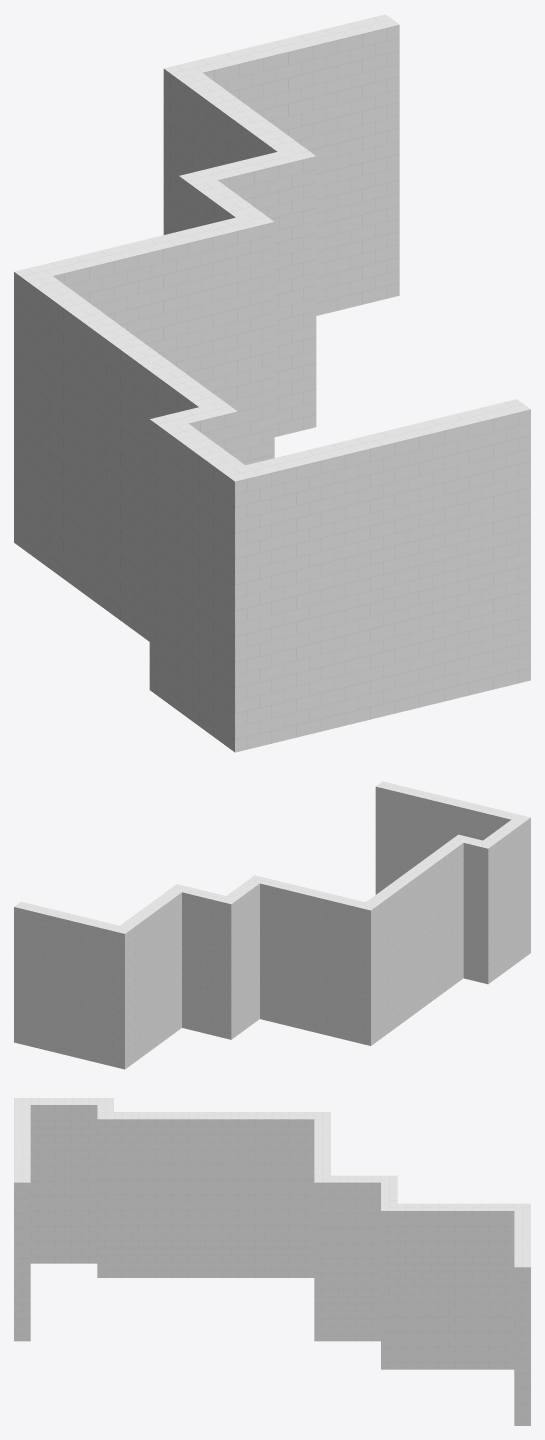
The model's file is RightWall.obj.
3 renders of one model, top to bottom at view 1: azimuth 30°, elevation 25°; view 2: azimuth 150°, elevation 25°; view 3: azimuth 270°, elevation 25°, orthographic. The views are drawn at different scales.
Visible parts, largest first — view 1: RightWall; view 2: RightWall; view 3: RightWall.
Part boxes in pixels (x1=…): RightWall: x1=14, y1=14, x2=530, y2=752; RightWall: x1=14, y1=781, x2=530, y2=1069; RightWall: x1=14, y1=1098, x2=530, y2=1425.
Bounding box in the file's own units: 24 × 10.5 × 31.
